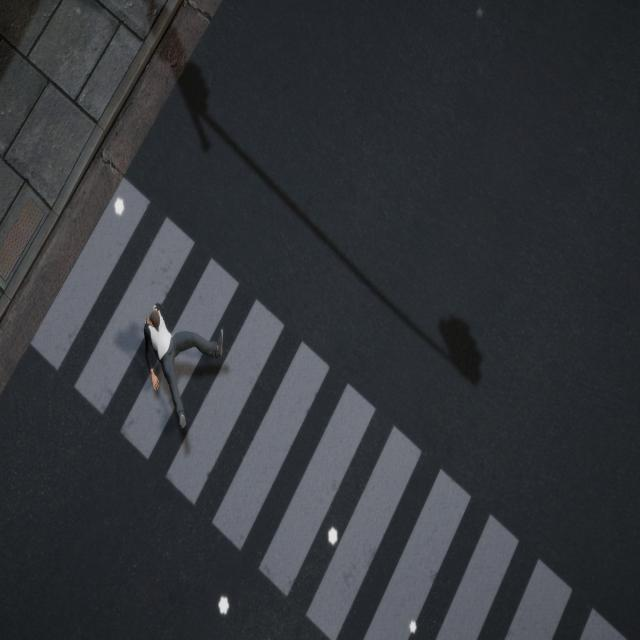Human: (138, 295, 227, 435)
